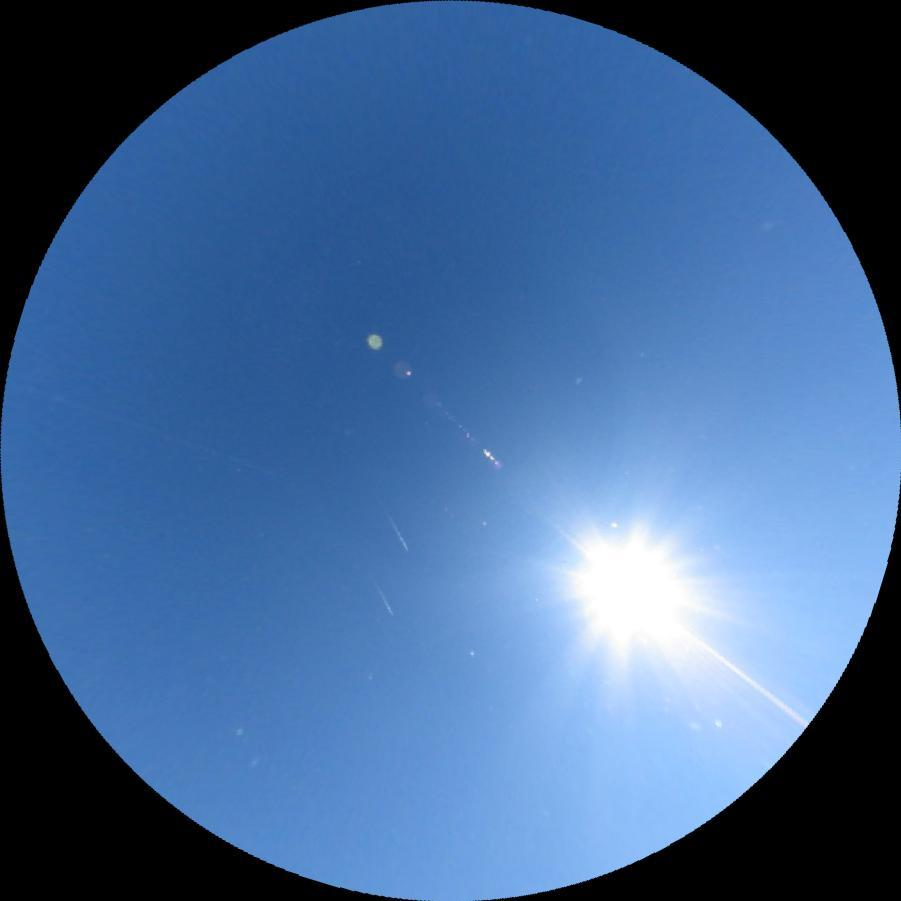contrail young: (374, 499, 411, 552), (367, 565, 393, 615)
parasite: (672, 621, 810, 728)
sun: (570, 525, 692, 655)
